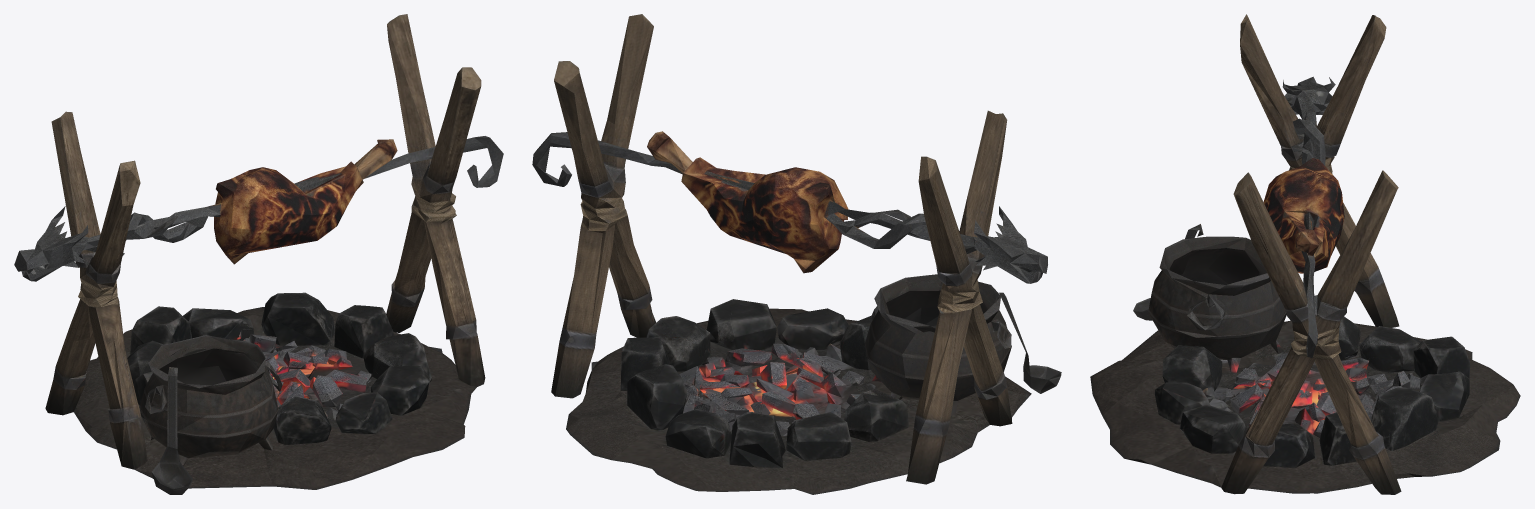
The model's file is spit_roast.glb.
The picture shows the model from 3 angles, left to right: view 1: azimuth 30°, elevation 25°; view 2: azimuth 150°, elevation 25°; view 3: azimuth 270°, elevation 25°; orthographic projection. The views are drawn at different scales.
Parts seen in each view (by area): view 1: spit_roast; view 2: spit_roast; view 3: spit_roast.
Part boxes in pixels (x1,y1,x2,y2): spit_roast: [14, 14, 503, 494]; spit_roast: [532, 14, 1061, 494]; spit_roast: [1090, 14, 1520, 494].
Bounding box in the file's own units: 2.59 × 1.6 × 1.96.
1 material, 1 textured.
